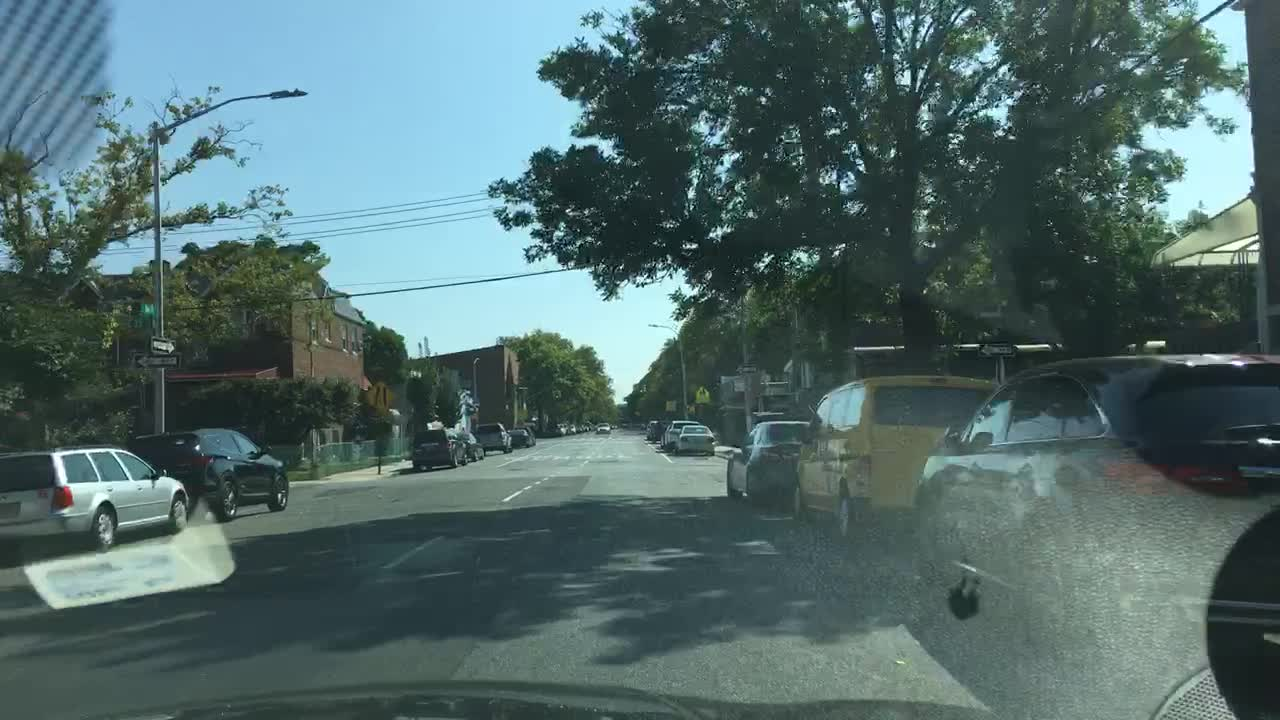car: (910, 350, 1280, 717), (792, 374, 1003, 540), (0, 444, 190, 555), (125, 426, 289, 524), (724, 417, 816, 507), (407, 425, 469, 470), (670, 424, 715, 457), (655, 420, 700, 450), (476, 421, 515, 452), (455, 428, 487, 461), (648, 418, 667, 447), (514, 424, 539, 443), (508, 427, 530, 443), (593, 423, 614, 438), (578, 419, 595, 434), (554, 421, 571, 436), (645, 419, 658, 437), (545, 421, 559, 437), (637, 421, 650, 434), (575, 422, 589, 434), (568, 422, 578, 436)
traffic light: (550, 388, 564, 400), (637, 384, 651, 391)
traffic sign: (360, 381, 400, 412), (132, 351, 181, 369), (976, 342, 1018, 357), (147, 333, 180, 351), (693, 387, 714, 402), (735, 363, 765, 373), (665, 400, 680, 412)
